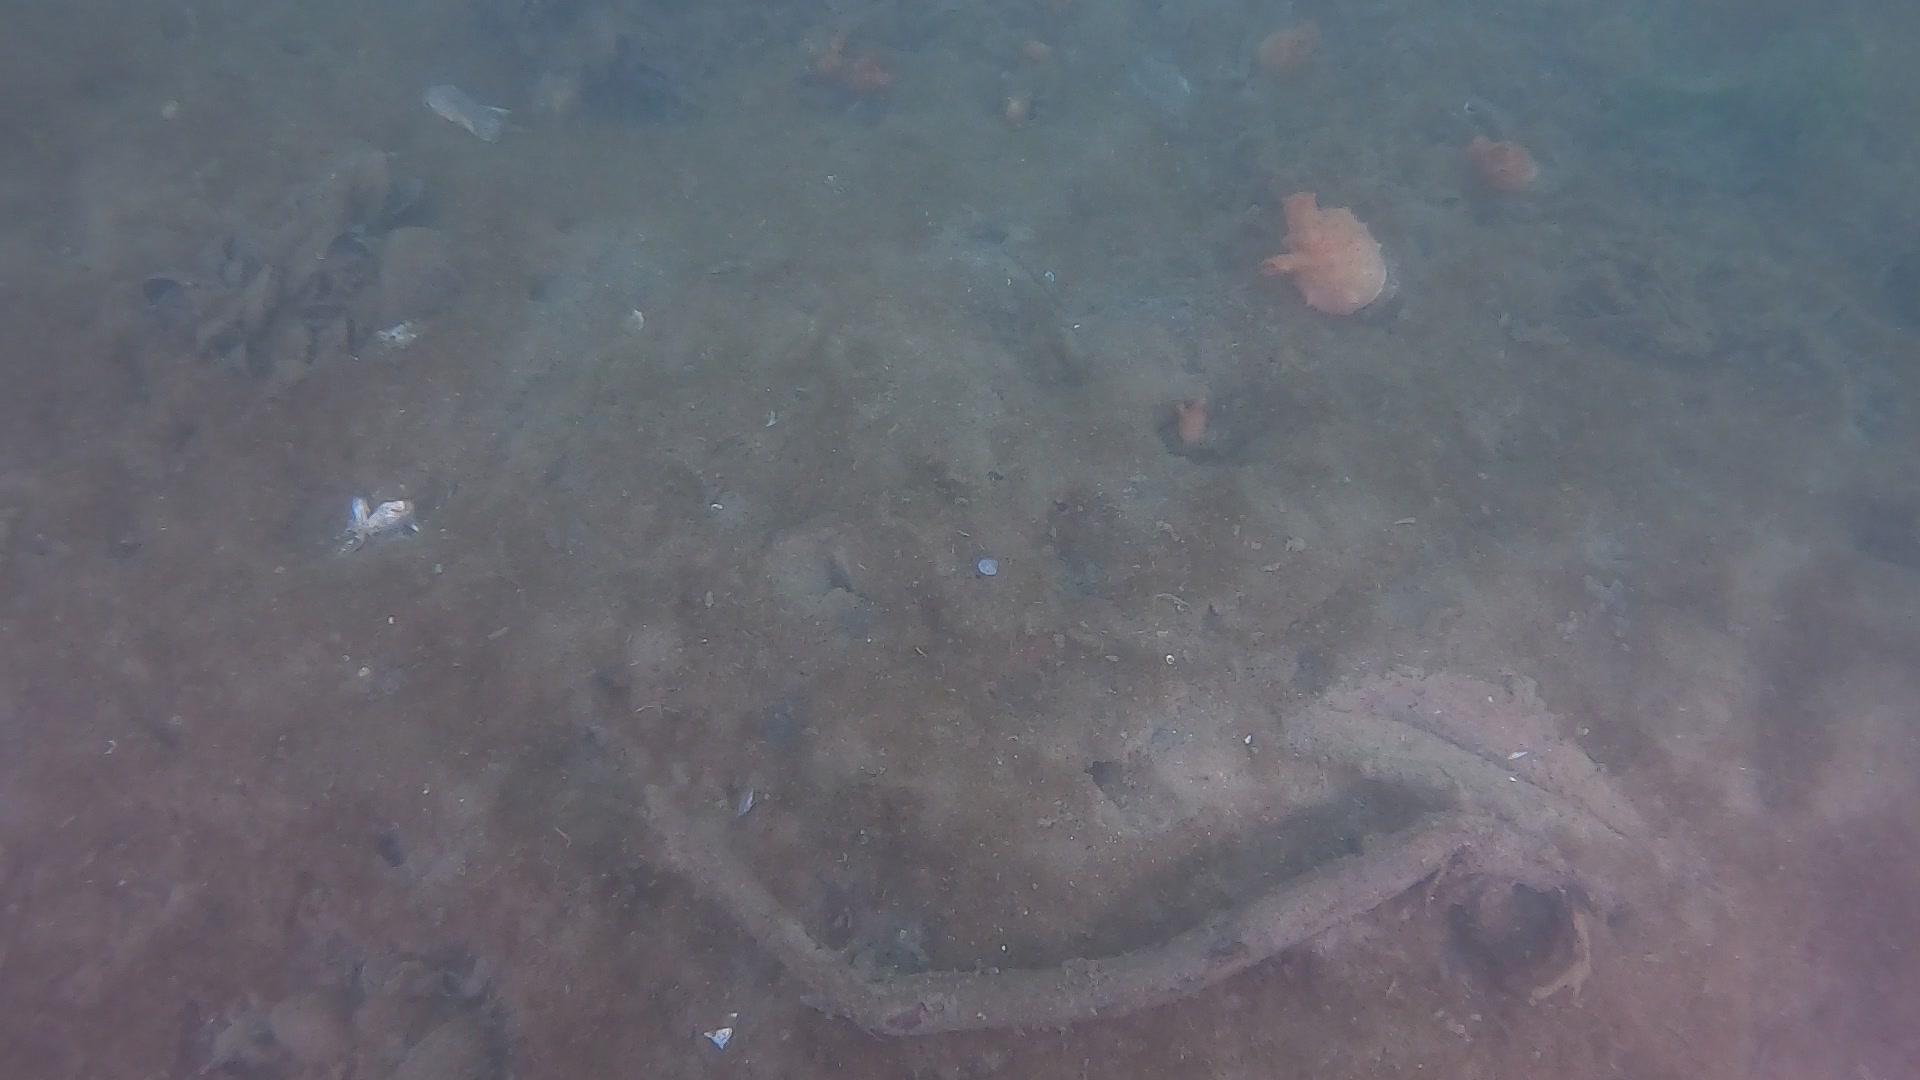wood: (636, 782, 1614, 1080)
